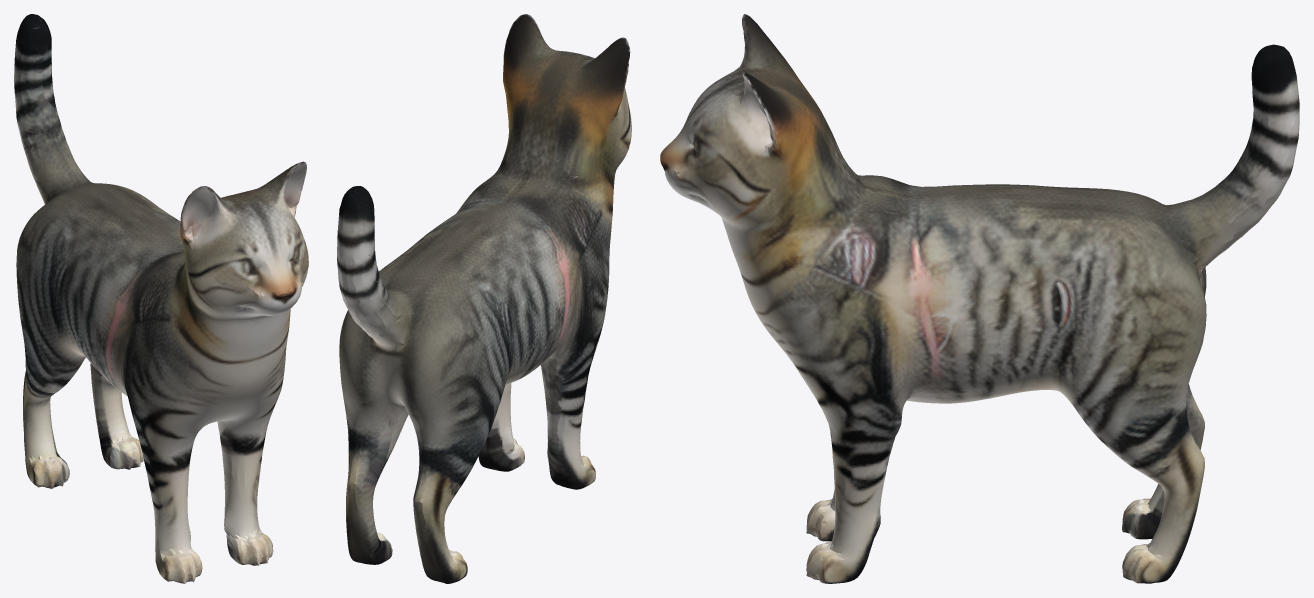
File: cat_domestic.glb
3 views of the same model, side by side, from view 1: azimuth 30°, elevation 25°; view 2: azimuth 150°, elevation 25°; view 3: azimuth 270°, elevation 25° (orthographic). The views are drawn at different scales.
Parts seen in each view (by area): view 1: model; view 2: model; view 3: model.
Part boxes in pixels (x1=…): model: x1=14, y1=14, x2=308, y2=583; model: x1=337, y1=14, x2=631, y2=583; model: x1=660, y1=14, x2=1299, y2=583.
Bounding box in the file's own units: 0.5791 × 1.67 × 1.9.
Materials: 1 (1 with a texture image).
